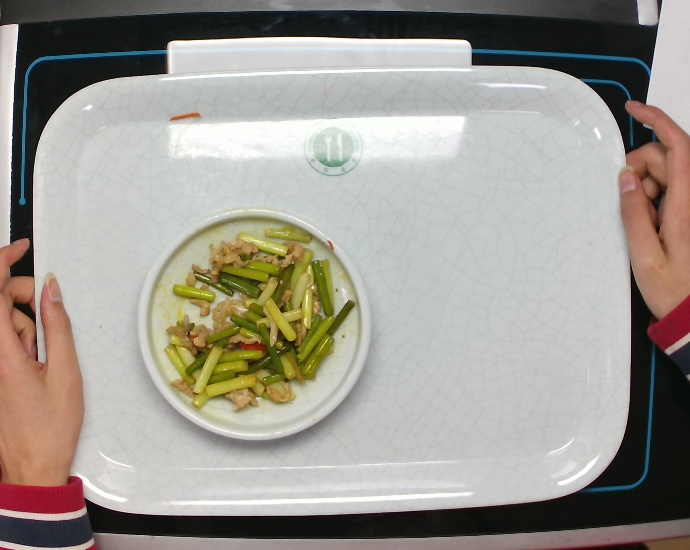JYsf-Xiao_Yuan_Pan: (133, 207, 375, 447)
